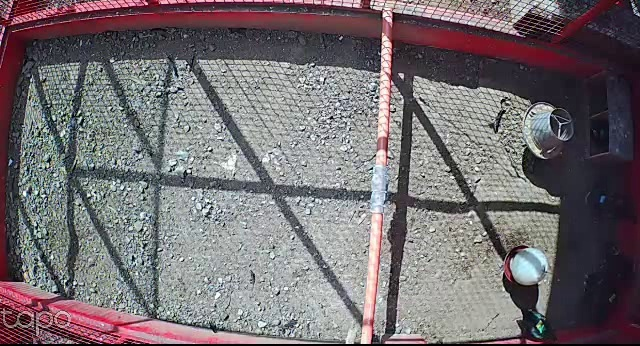Chicken: (517, 303, 558, 343)
Drinker: (502, 245, 547, 286)
Feeder: (522, 100, 575, 161)
Saddle_Color_YellowGreen: (534, 320, 547, 335)
